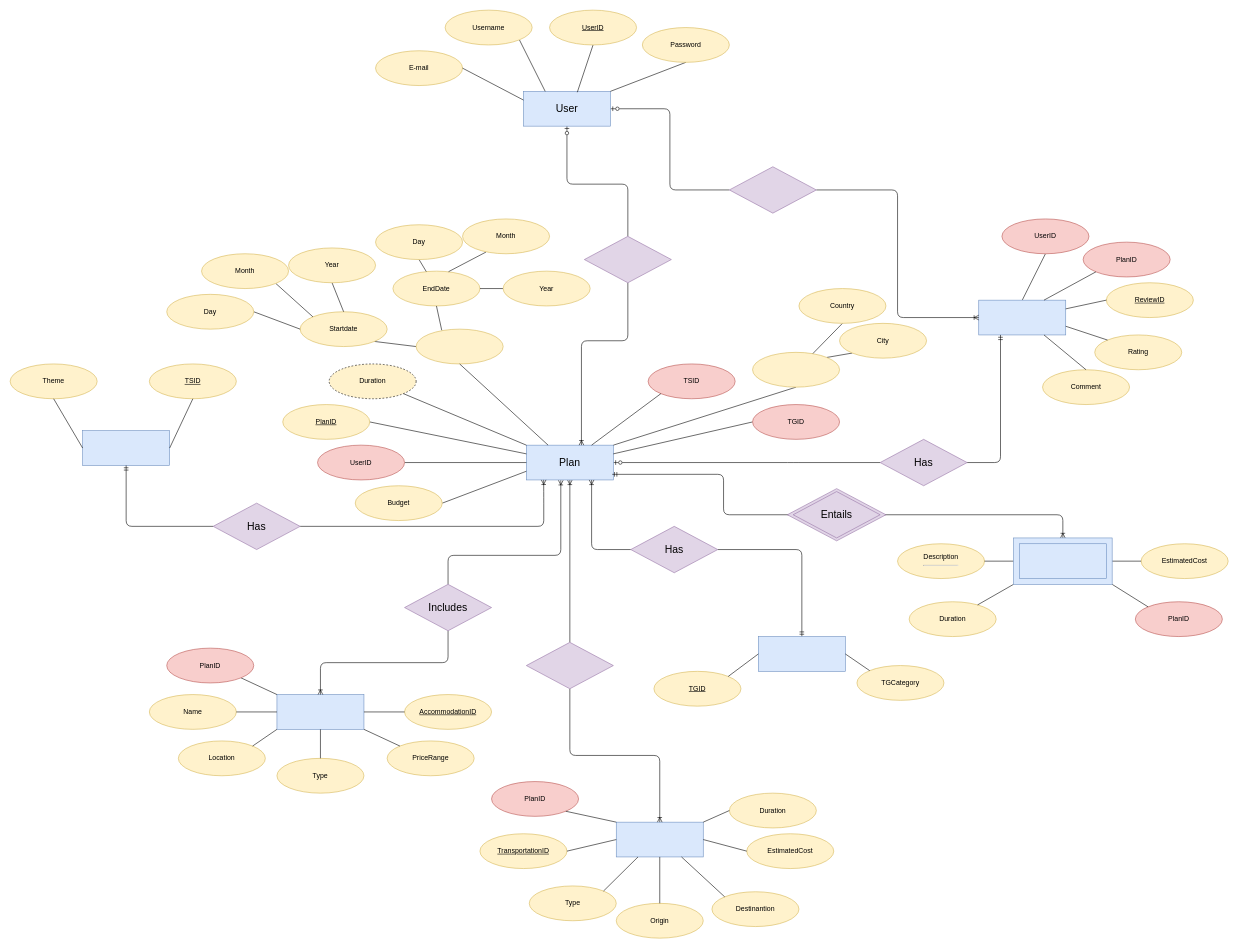
This 1238x948 diagram has some shape labels left out. Each missing label, with the box of its shape:
Accommodation: (276, 694, 364, 729)
Activities: (1019, 543, 1106, 579)
Contains: (526, 642, 613, 689)
DateRange: (416, 329, 503, 364)
Destination: (752, 352, 840, 387)
Requests: (584, 236, 671, 283)
Review: (978, 300, 1066, 335)
Submits: (729, 166, 816, 213)
Transportation: (616, 822, 703, 857)
TravelGroup: (758, 636, 845, 671)
TravelStyle: (82, 430, 170, 465)
